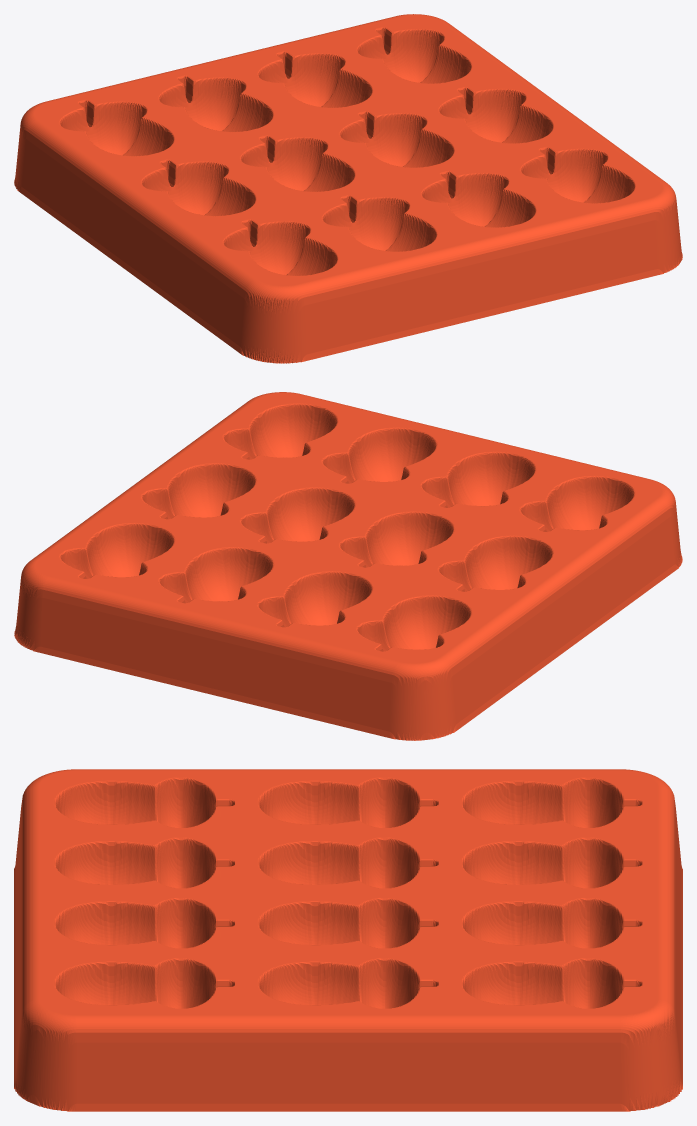
Rendered from mold.glb.
3 views of the same model, one above another, from view 1: azimuth 30°, elevation 25°; view 2: azimuth 150°, elevation 25°; view 3: azimuth 270°, elevation 25° (orthographic). The views are drawn at different scales.
Parts seen in each view (by area): view 1: geometry_0; view 2: geometry_0; view 3: geometry_0.
Boxes of the visible parts, left/top/right/bottom form: geometry_0: left=14, top=14, right=682, bottom=363; geometry_0: left=14, top=392, right=682, bottom=740; geometry_0: left=14, top=769, right=682, bottom=1111.
Size of the model in its own units: 0.0905 by 0.0136 by 0.0963.
